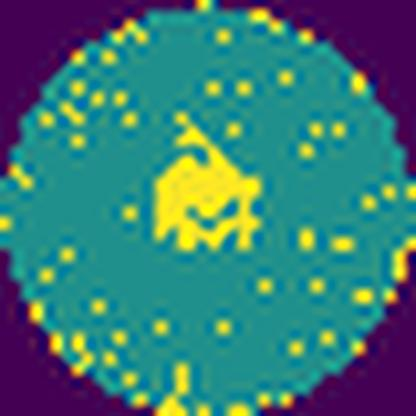Center: (155, 113, 263, 258)
